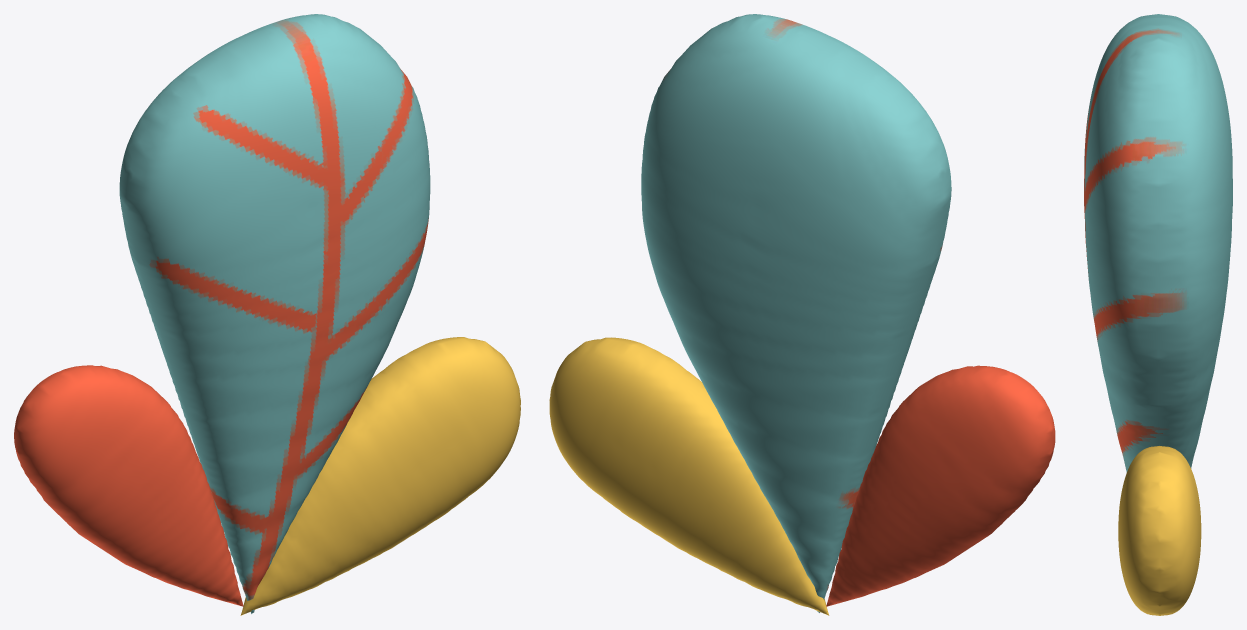
Rendered from flor2.fbx.
3 views of the same model, side by side, from view 1: azimuth 30°, elevation 25°; view 2: azimuth 150°, elevation 25°; view 3: azimuth 270°, elevation 25° (orthographic).
Visible parts, largest first — view 1: root (×3); view 2: root (×3); view 3: root (×2).
Boxes of the visible parts, x1,y1,x2,y2 form: root (×3): (14, 14, 520, 615); root (×3): (549, 14, 1055, 615); root (×2): (1084, 14, 1232, 615).
Bounding box in the file's own units: 0.1133 × 0.1262 × 0.0298.
3 materials, 3 textured.
